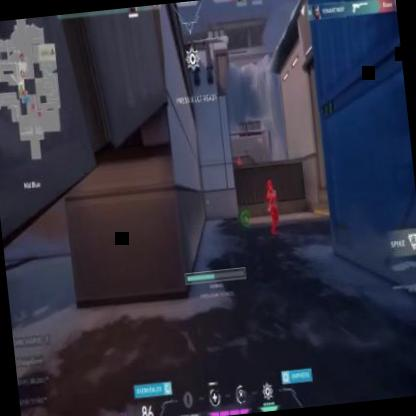enemy: (262, 179, 281, 236), (235, 155, 242, 172)
enemy_head: (265, 179, 274, 191), (236, 155, 240, 160)
